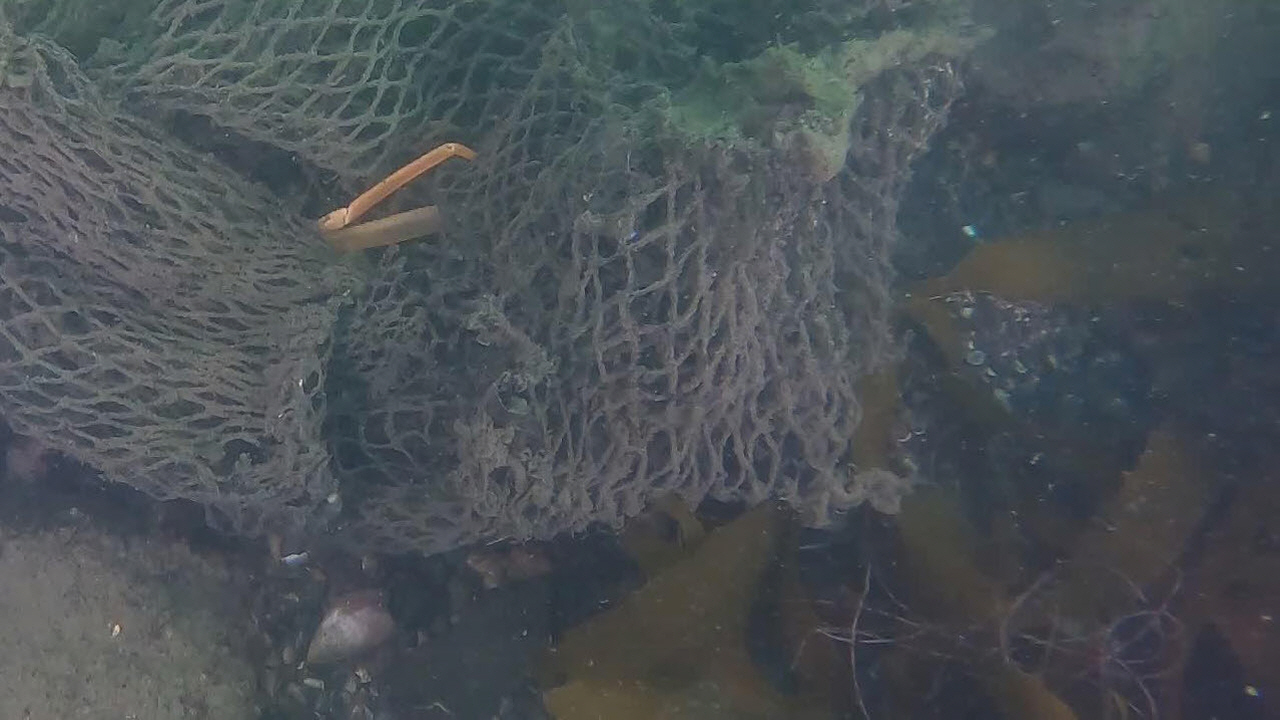fish net: (0, 0, 987, 556)
